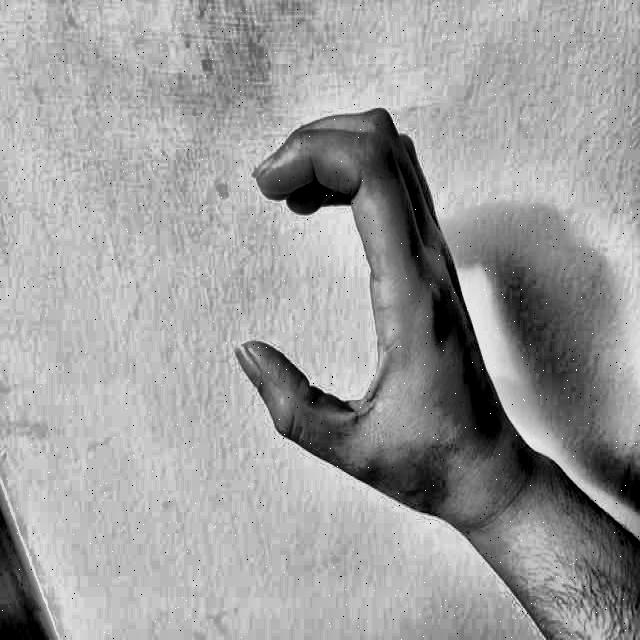A: (210, 80, 482, 568)
